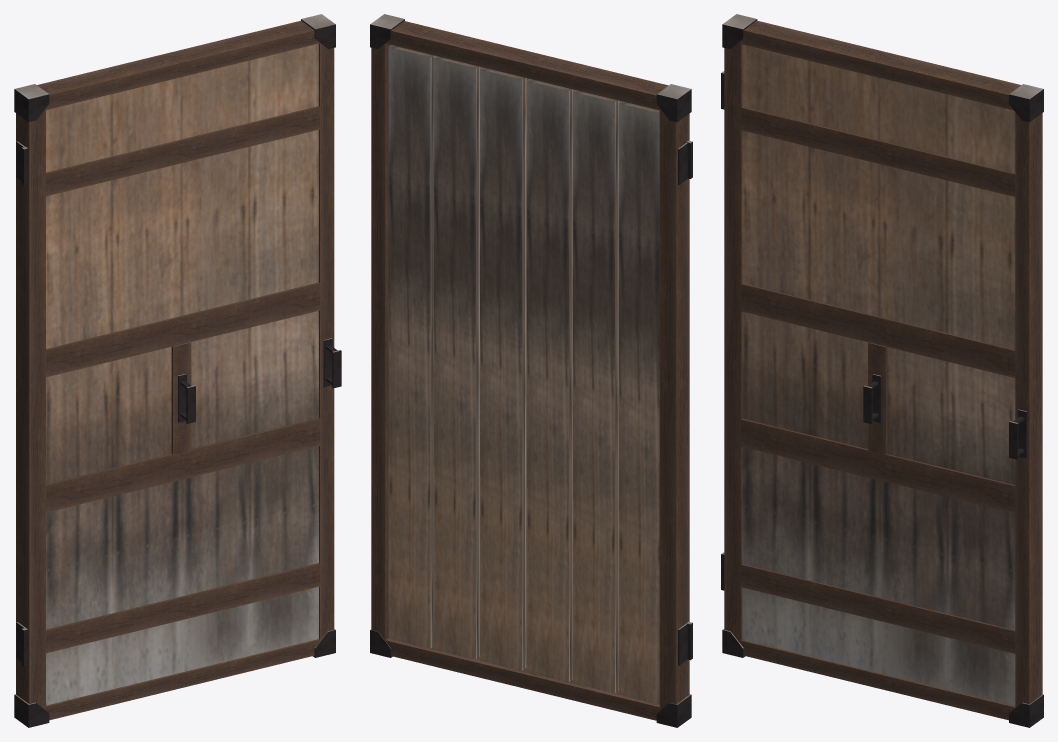
The model's file is entrancegate01_l.fbx.
The picture shows the model from 3 angles, left to right: view 1: azimuth 30°, elevation 25°; view 2: azimuth 150°, elevation 25°; view 3: azimuth 330°, elevation 25°; orthographic projection.
Parts seen in each view (by area): view 1: entrancegate01_l; view 2: entrancegate01_l; view 3: entrancegate01_l.
Part boxes in pixels (x1,y1,x2,y2): entrancegate01_l: (14,14,341,727); entrancegate01_l: (370,14,692,727); entrancegate01_l: (721,14,1043,727).
Size of the model in its own units: 125 by 243 by 16.21.
